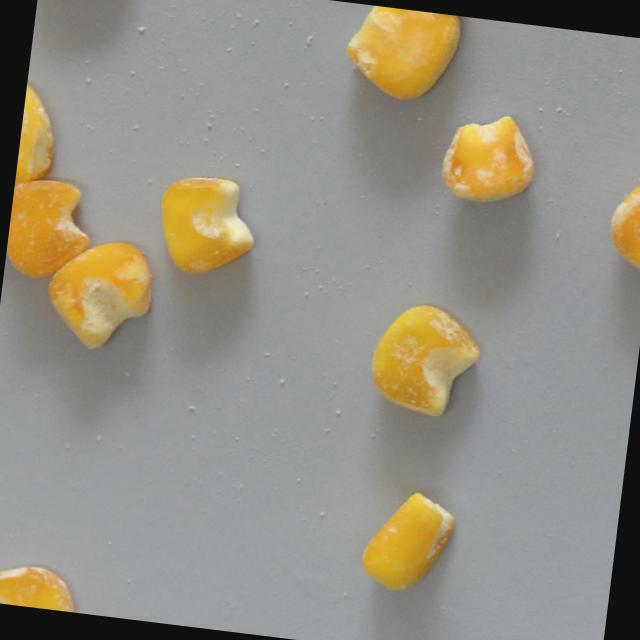pelicula: (38, 234, 158, 358), (365, 300, 484, 423), (340, 1, 463, 105), (153, 171, 261, 281), (355, 483, 457, 597), (436, 107, 540, 209), (3, 174, 96, 283), (13, 78, 60, 198), (0, 560, 79, 612), (604, 163, 640, 273)
